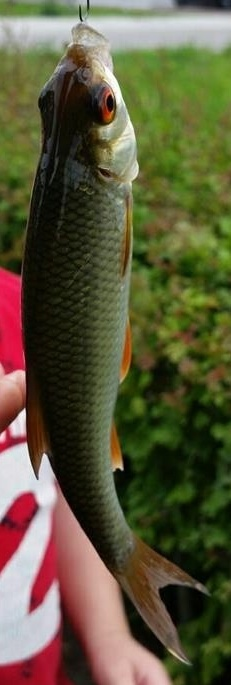Rutilus rutilus: (20, 20, 211, 665)
